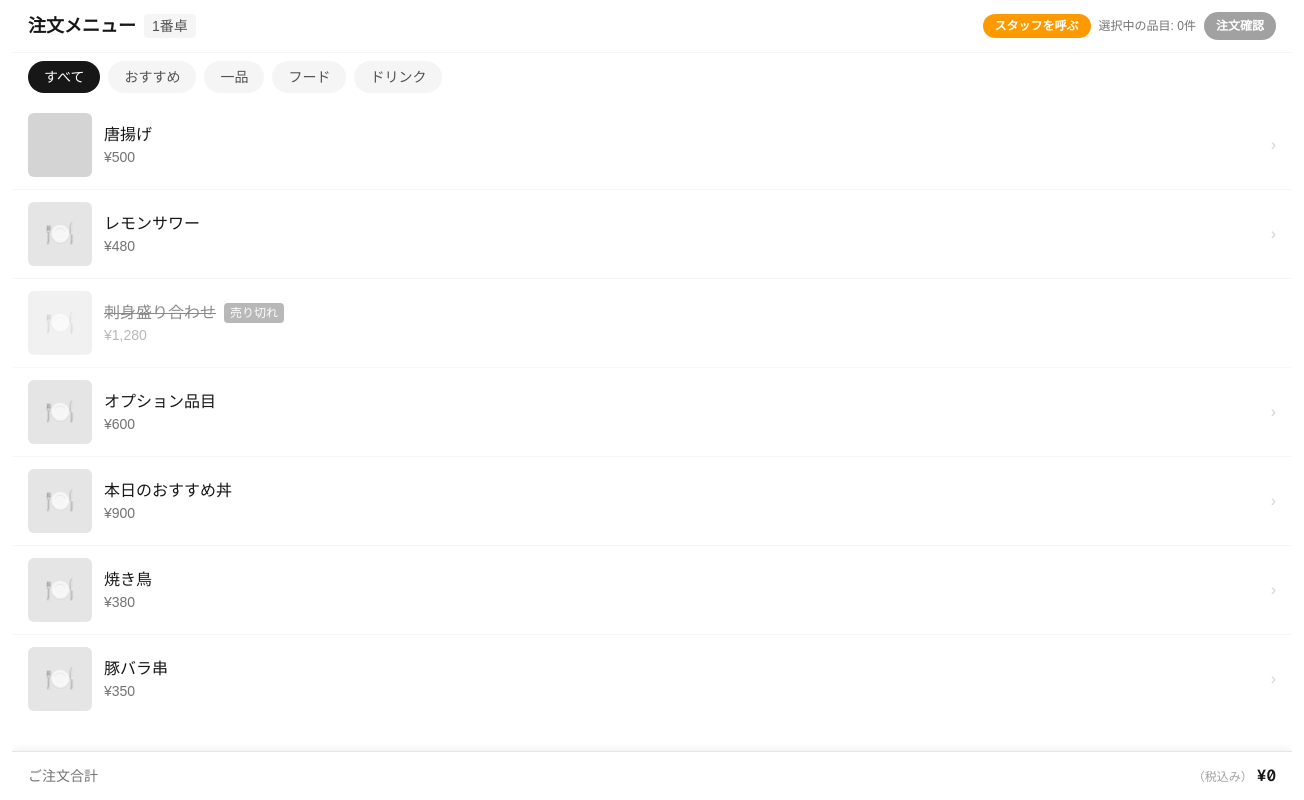
Test: MenuScreen › 「おすすめ」タブはジャンルを問わずrecommended: trueの品目のみを横断表示する（0016で追加）
Expected: the text "唐揚げ" is shown, [104,123,152,147]
Step 1. Click the tab "おすすめ" → coordinates (152, 77), box [108,61,196,93]
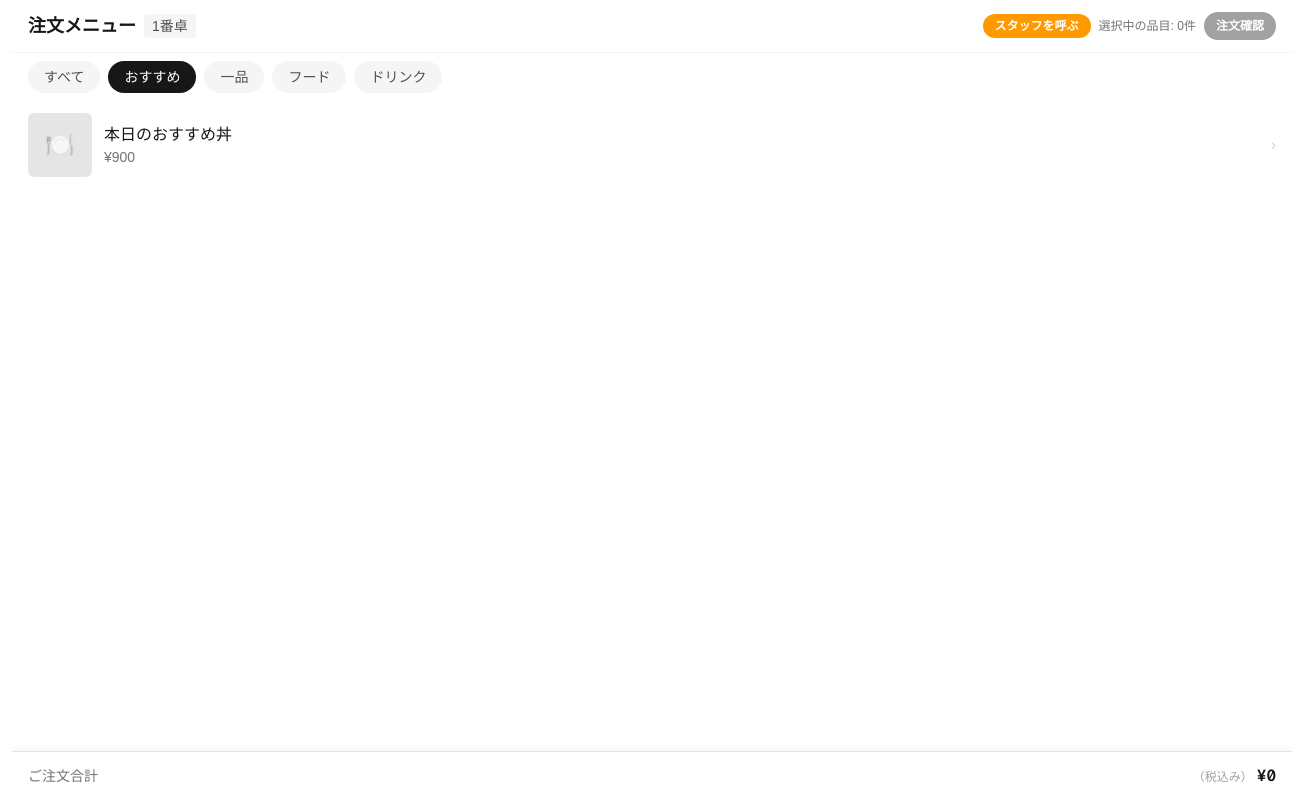
Expected: the text "本日のおすすめ丼" is shown, [104,123,232,147]
Now the button "唐揚げ" is gone
Now the button "焼き鳥" is gone
